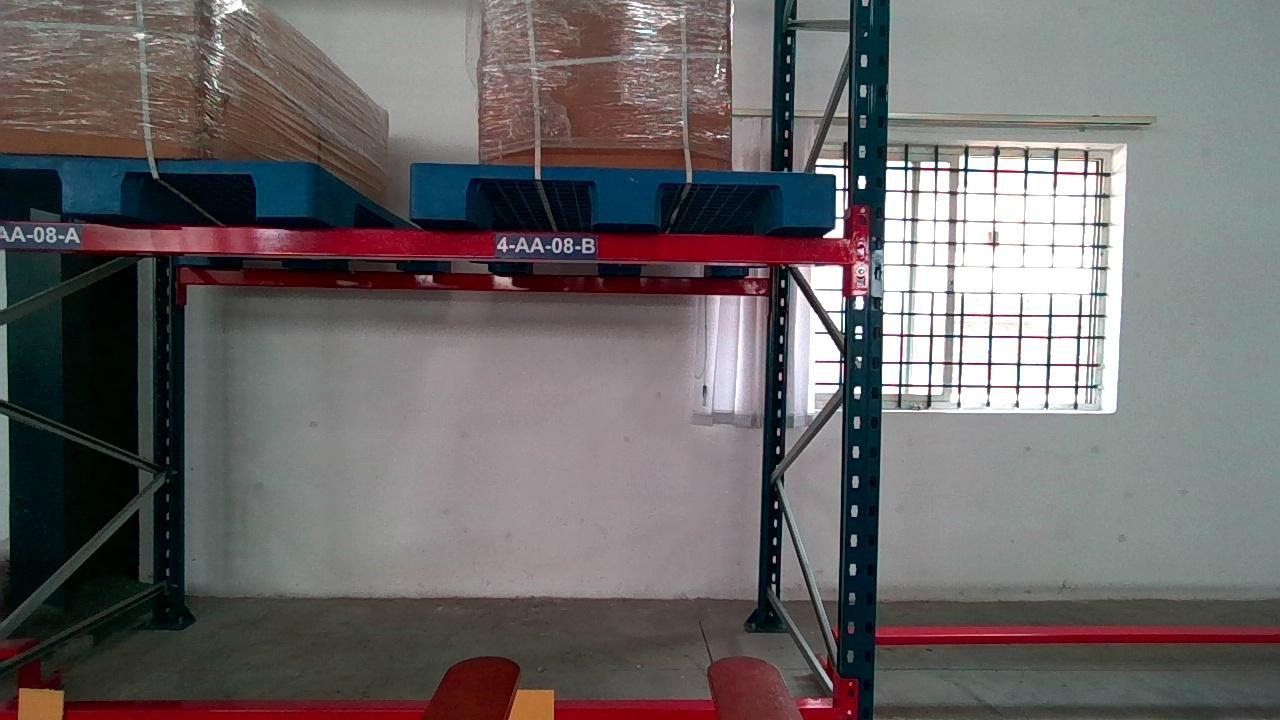small_pallet: (411, 162, 828, 228), (3, 155, 317, 225)
